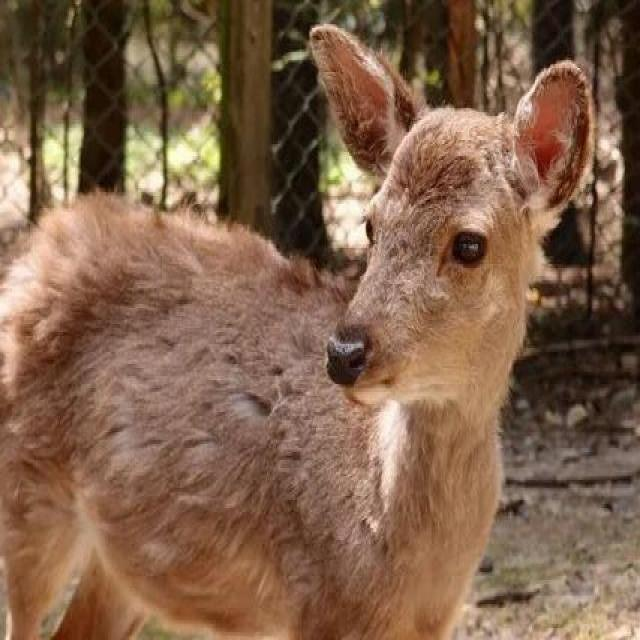deer: (5, 35, 609, 602)
